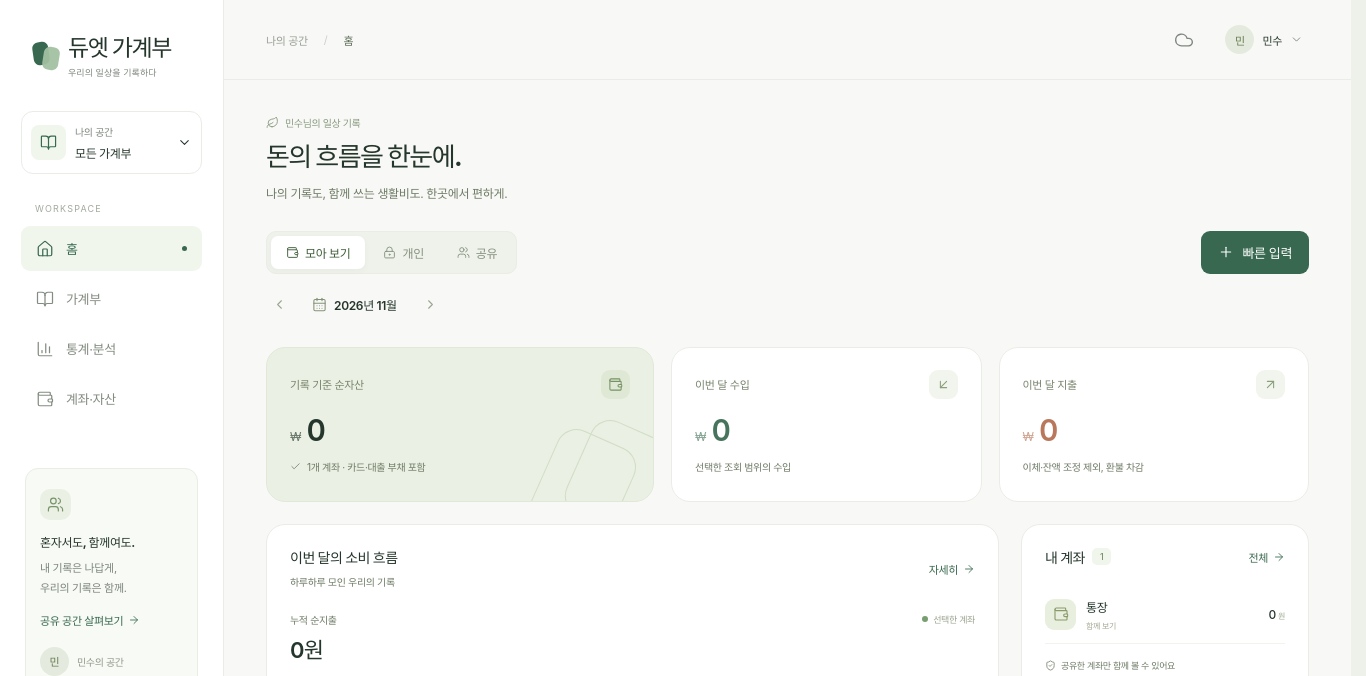
Test case: 사용자 메뉴에서 계정 설정·설정·관리·로그아웃을 제공한다
The width and height of the screenshot is (1366, 676).
Click the button with aria-label "사용자 메뉴" at (1264, 40), box [1220, 24, 1309, 55]
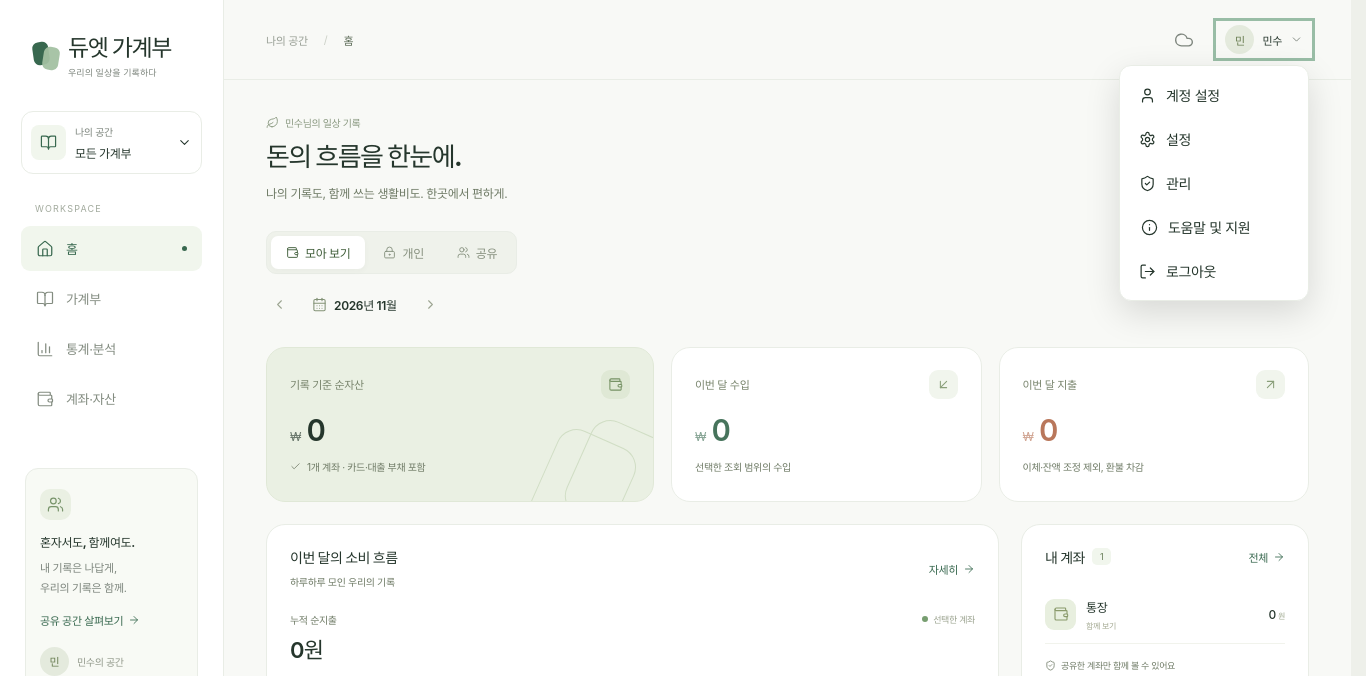
Result: the button "계정 설정" is shown at [1127, 73, 1301, 117]
Result: the button "로그아웃" is shown at [1127, 249, 1301, 293]
Result: the button "관리" is shown at [1127, 161, 1301, 205]
